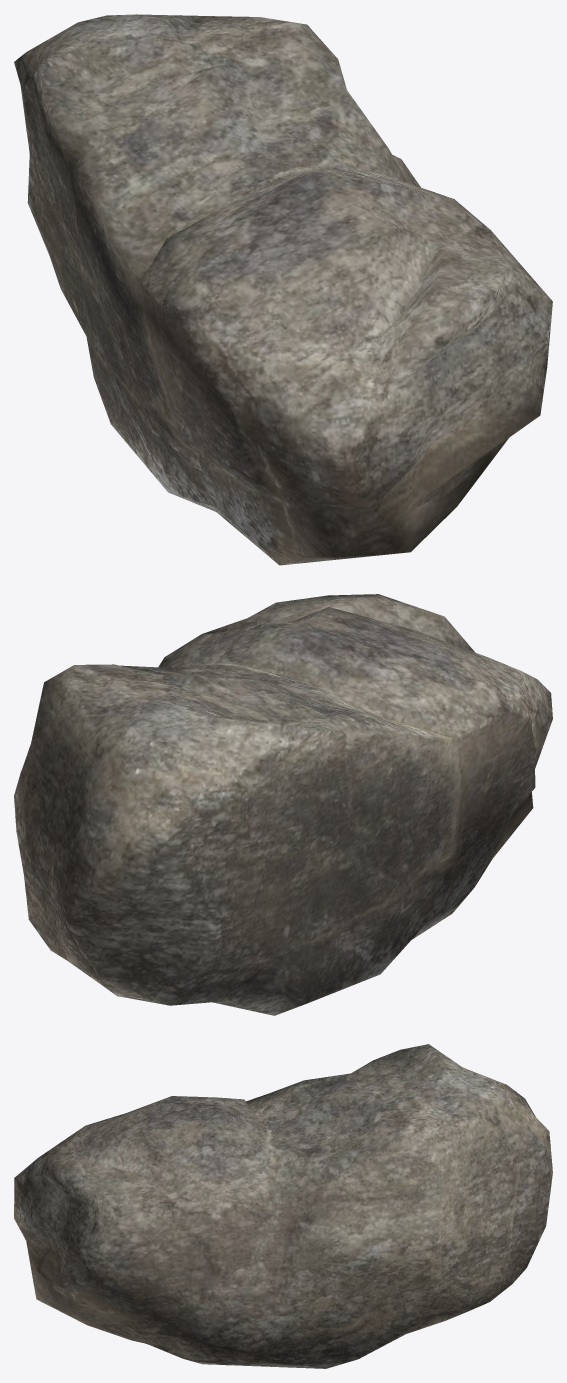
The model's file is rock-c.glb.
3 views of the same model, one above another, from view 1: azimuth 30°, elevation 25°; view 2: azimuth 150°, elevation 25°; view 3: azimuth 270°, elevation 25° (orthographic). The views are drawn at different scales.
Visible parts, largest first — view 1: rock-c; view 2: rock-c; view 3: rock-c.
Part boxes in pixels (box(x1,y1,x2,y2)): rock-c: box(14, 14, 552, 565); rock-c: box(14, 594, 552, 1015); rock-c: box(14, 1044, 552, 1368).
Size of the model in its own units: 0.5466 by 0.5267 by 0.9961.
Materials: 1 (1 with a texture image).
